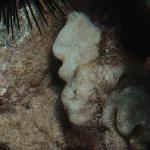dead: (1, 4, 143, 142)
